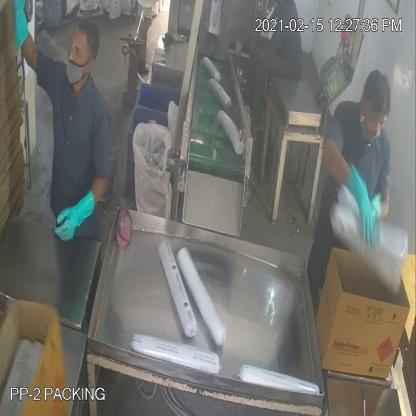glove: (342, 155, 381, 264), (52, 178, 101, 248), (8, 1, 43, 71)
